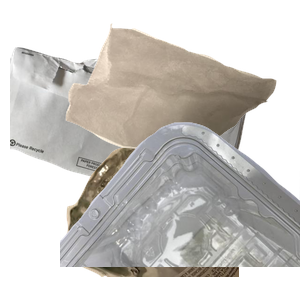glass: (60, 120, 300, 300)
paper: (10, 45, 250, 225)
plastic: (60, 120, 300, 300)
trash: (63, 21, 300, 172)
